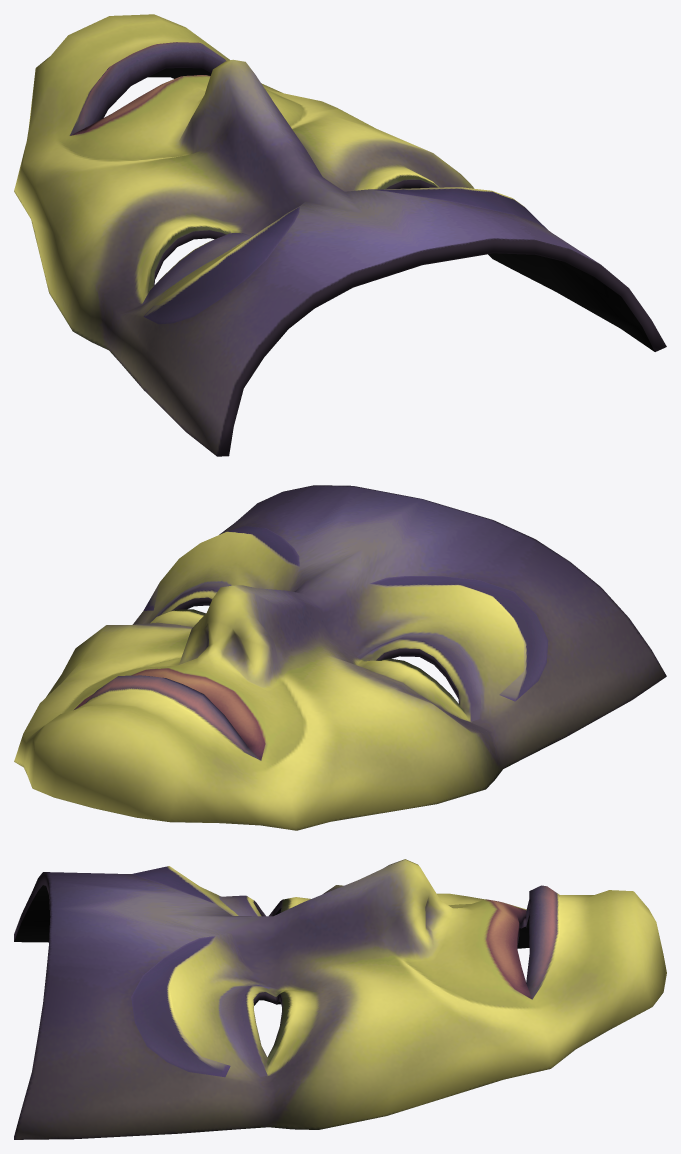
File: anim1_000014.obj
The picture shows the model from 3 angles, top to bottom: view 1: azimuth 30°, elevation 25°; view 2: azimuth 150°, elevation 25°; view 3: azimuth 270°, elevation 25°; orthographic projection. The views are drawn at different scales.
Visible parts, largest first — view 1: 151out; view 2: 151out; view 3: 151out.
Part boxes in pixels (left/top/right/bottom): 151out: left=14, top=14, right=666, bottom=456; 151out: left=14, top=485, right=666, bottom=830; 151out: left=14, top=859, right=666, bottom=1139.
Bounding box in the file's own units: 4.16 × 1.69 × 5.58.
